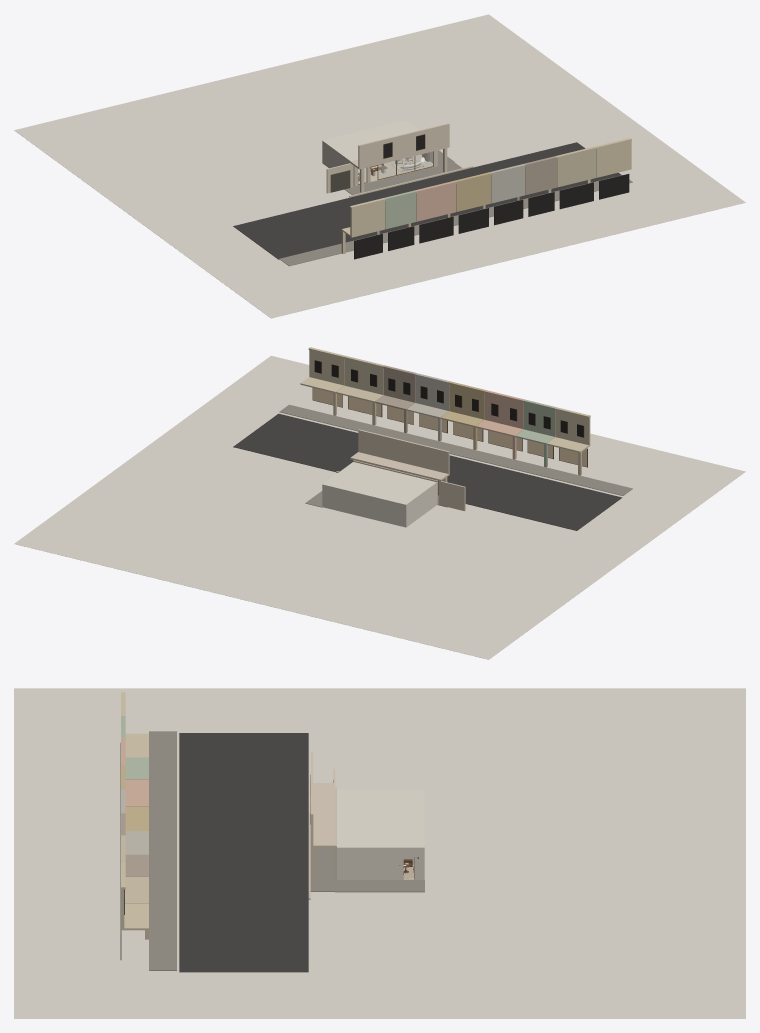
Rendered from store.glb.
The picture shows the model from 3 angles, top to bottom: view 1: azimuth 30°, elevation 25°; view 2: azimuth 150°, elevation 25°; view 3: azimuth 270°, elevation 25°; orthographic projection. The views are drawn at different scales.
Visible parts, largest first — view 1: ground, road, upper-facade, ceiling, across-walkway, across-6-facade, across-2-facade, across-0-facade, across-3-facade, across-7-facade, across-4-facade, walkway (+11 smaller); view 2: ground, road, across-walkway, ceiling, upper-facade, wall-back, across-2-facade, across-6-facade, soffit, across-3-facade, across-0-facade, across-7-facade (+5 smaller); view 3: ground, road, across-walkway, ceiling, wall-right-front, soffit, lane, walkway, across-2-soffit, across-6-soffit, across-7-soffit, wall-right-front-upper (+5 smaller).
Part boxes in pixels (<box>): ground: <box>14,14,745,318</box>; road: <box>233,142,621,259</box>; upper-facade: <box>358,123,449,167</box>; ceiling: <box>322,120,419,161</box>; across-walkway: <box>279,175,632,266</box>; across-6-facade: <box>557,149,596,186</box>; across-2-facade: <box>416,184,455,220</box>; across-0-facade: <box>350,201,385,236</box>; across-3-facade: <box>456,175,491,211</box>; across-7-facade: <box>596,141,631,176</box>; across-4-facade: <box>491,167,525,202</box>; walkway: <box>344,162,462,194</box>; ground: <box>14,355,745,659</box>; road: <box>233,413,622,530</box>; across-walkway: <box>279,404,632,495</box>; ceiling: <box>322,462,436,505</box>; upper-facade: <box>358,429,449,473</box>; wall-back: <box>322,491,406,527</box>; across-2-facade: <box>484,393,523,429</box>; across-6-facade: <box>344,359,383,394</box>; soffit: <box>350,452,449,481</box>; across-3-facade: <box>449,384,484,419</box>; across-0-facade: <box>555,410,590,444</box>; across-7-facade: <box>309,350,344,385</box>; ground: <box>14,688,745,1018</box>; road: <box>179,733,308,972</box>; across-walkway: <box>149,731,176,970</box>; ceiling: <box>337,789,424,848</box>; wall-right-front: <box>337,856,403,879</box>; soffit: <box>310,783,335,847</box>; lane: <box>335,880,424,892</box>; walkway: <box>310,848,334,891</box>; across-2-soffit: <box>125,779,148,806</box>; across-6-soffit: <box>125,876,148,903</box>; across-7-soffit: <box>121,904,148,930</box>; wall-right-front-upper: <box>337,848,403,856</box>.
Bounding box in the file's own units: 72.5 × 8 × 68.
